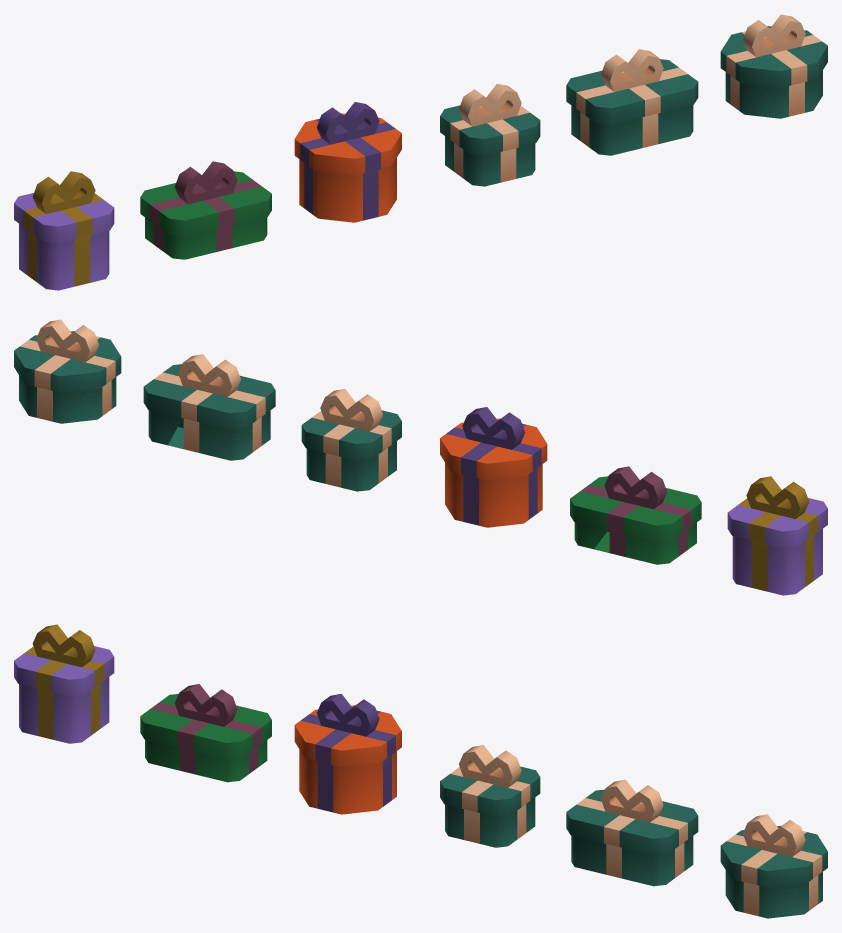
Rendered from KFB_Gift_Presents_clay01.glb.
3 views of the same model, one above another, from view 1: azimuth 30°, elevation 25°; view 2: azimuth 150°, elevation 25°; view 3: azimuth 330°, elevation 25° (orthographic).
Visible parts, largest first — view 1: lid_present-b-rectangle, lid_present-a-rectangle, lid_present-a-round, lid_present-b-round, lid_present-a-cube, lid_present-b-cube, box_present-a-round, box_present-a-cube, box_present-b-rectangle, box_present-b-round, box_present-b-cube, box_present-a-rectangle; view 2: lid_present-b-rectangle, lid_present-a-rectangle, lid_present-a-round, lid_present-b-round, lid_present-a-cube, lid_present-b-cube, box_present-a-round, box_present-a-cube, box_present-b-rectangle, box_present-b-round, box_present-b-cube, box_present-a-rectangle; view 3: lid_present-b-rectangle, lid_present-a-rectangle, lid_present-a-round, lid_present-b-round, lid_present-b-cube, lid_present-a-cube, box_present-a-round, box_present-a-cube, box_present-b-rectangle, box_present-b-round, box_present-b-cube, box_present-a-rectangle.
Part boxes in pixels (x1,y1,x2,y2): lid_present-b-rectangle: [566, 49, 698, 124]; lid_present-a-rectangle: [140, 161, 271, 236]; lid_present-a-round: [294, 102, 401, 175]; lid_present-b-round: [720, 14, 827, 87]; lid_present-a-cube: [14, 171, 114, 242]; lid_present-b-cube: [440, 84, 540, 155]; box_present-a-round: [299, 158, 396, 222]; box_present-a-cube: [19, 224, 109, 290]; box_present-b-rectangle: [571, 105, 693, 155]; box_present-b-round: [725, 70, 822, 118]; box_present-b-cube: [445, 136, 535, 186]; box_present-a-rectangle: [145, 217, 267, 259]; lid_present-b-rectangle: [143, 354, 275, 429]; lid_present-a-rectangle: [570, 466, 701, 541]; lid_present-a-round: [440, 407, 547, 480]; lid_present-b-round: [14, 319, 121, 392]; lid_present-a-cube: [727, 476, 827, 547]; lid_present-b-cube: [301, 389, 401, 460]; box_present-a-round: [445, 463, 542, 527]; box_present-a-cube: [732, 529, 822, 595]; box_present-b-rectangle: [148, 410, 270, 460]; box_present-b-round: [19, 375, 116, 423]; box_present-b-cube: [306, 441, 396, 491]; box_present-a-rectangle: [574, 522, 696, 564]; lid_present-b-rectangle: [566, 779, 698, 855]; lid_present-a-rectangle: [140, 684, 271, 759]; lid_present-a-round: [294, 693, 401, 766]; lid_present-b-round: [720, 814, 827, 887]; lid_present-b-cube: [440, 745, 540, 816]; lid_present-a-cube: [14, 624, 114, 696]; box_present-a-round: [299, 749, 396, 814]; box_present-a-cube: [19, 677, 109, 743]; box_present-b-rectangle: [571, 835, 693, 886]; box_present-b-round: [725, 870, 822, 918]; box_present-b-cube: [445, 797, 535, 847]; box_present-a-rectangle: [145, 739, 267, 782].
Size of the model in its own units: 5 by 0.5707 by 0.5489.
Materials: 6 (6 with a texture image).
